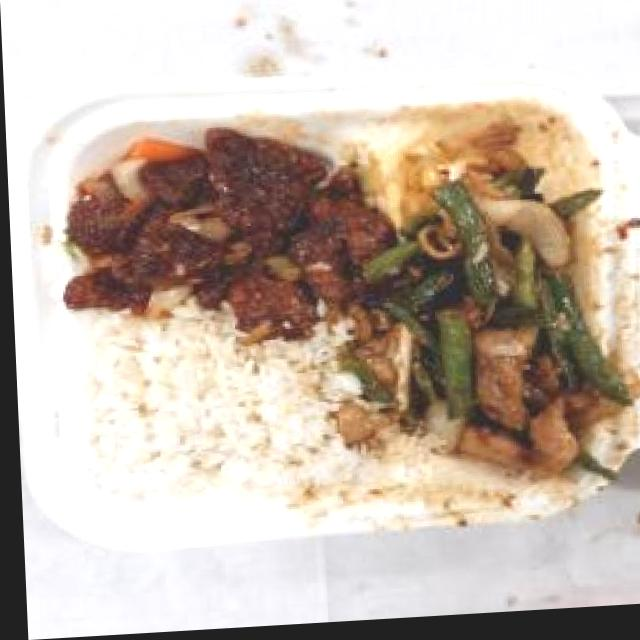Beijing Beef: (62, 121, 377, 335)
String Bean Chicken Breast: (347, 167, 621, 507)
White Steamed Rice: (80, 322, 336, 512)
